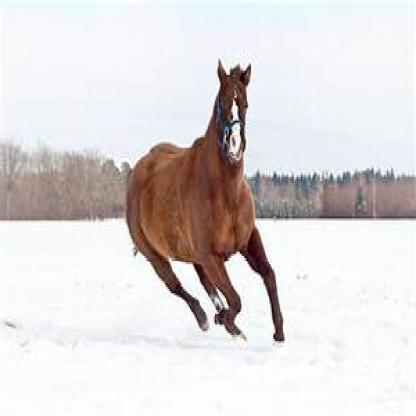horse: (126, 61, 258, 350)
